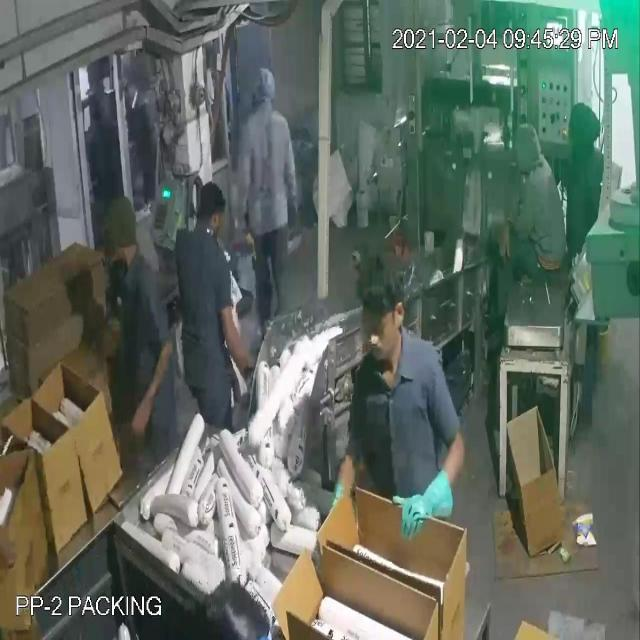No_Gloves: (55, 100, 438, 510)
